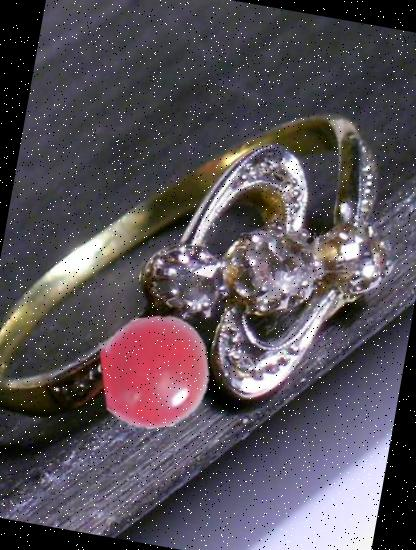Redcurrant: (90, 308, 220, 438)
